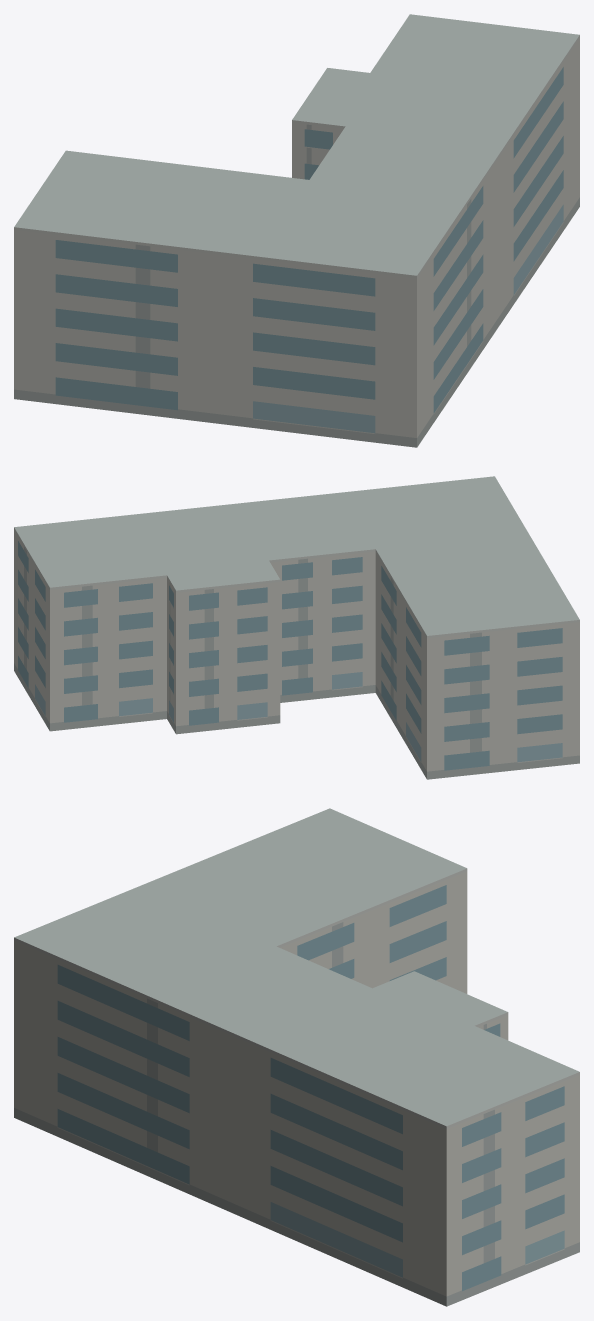
File: residential-21a14e2f-cd42-4132-98c7-25472ba530f9.glb
3 renders of one model, top to bottom at view 1: azimuth 30°, elevation 25°; view 2: azimuth 150°, elevation 25°; view 3: azimuth 270°, elevation 25°, orthographic. The views are drawn at different scales.
Visible parts, largest first — view 1: residential-21a14e2f-cd42-4132-98c7-25472ba530f9.tmp; view 2: residential-21a14e2f-cd42-4132-98c7-25472ba530f9.tmp; view 3: residential-21a14e2f-cd42-4132-98c7-25472ba530f9.tmp.
Boxes of the visible parts, box(x1,y1,x2,y2) form: residential-21a14e2f-cd42-4132-98c7-25472ba530f9.tmp: box(14, 14, 579, 447); residential-21a14e2f-cd42-4132-98c7-25472ba530f9.tmp: box(14, 476, 579, 779); residential-21a14e2f-cd42-4132-98c7-25472ba530f9.tmp: box(14, 808, 579, 1306).
Size of the model in its own units: 57.71 by 15.25 by 43.39.
